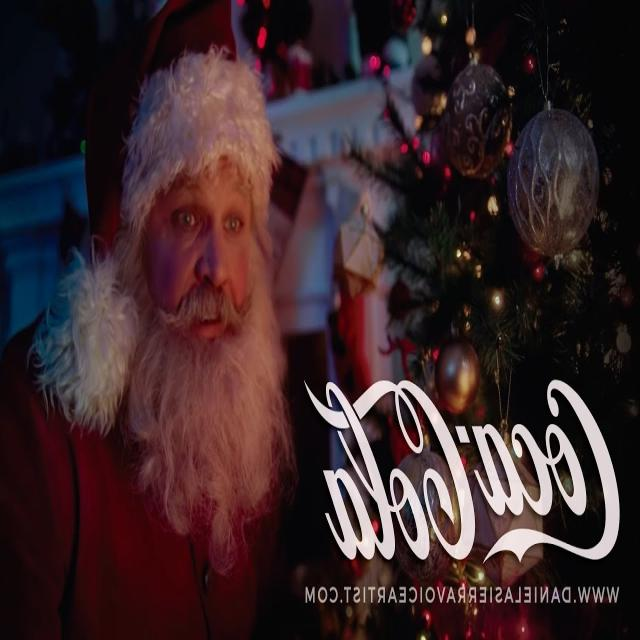coca cola: (299, 372, 624, 565)
